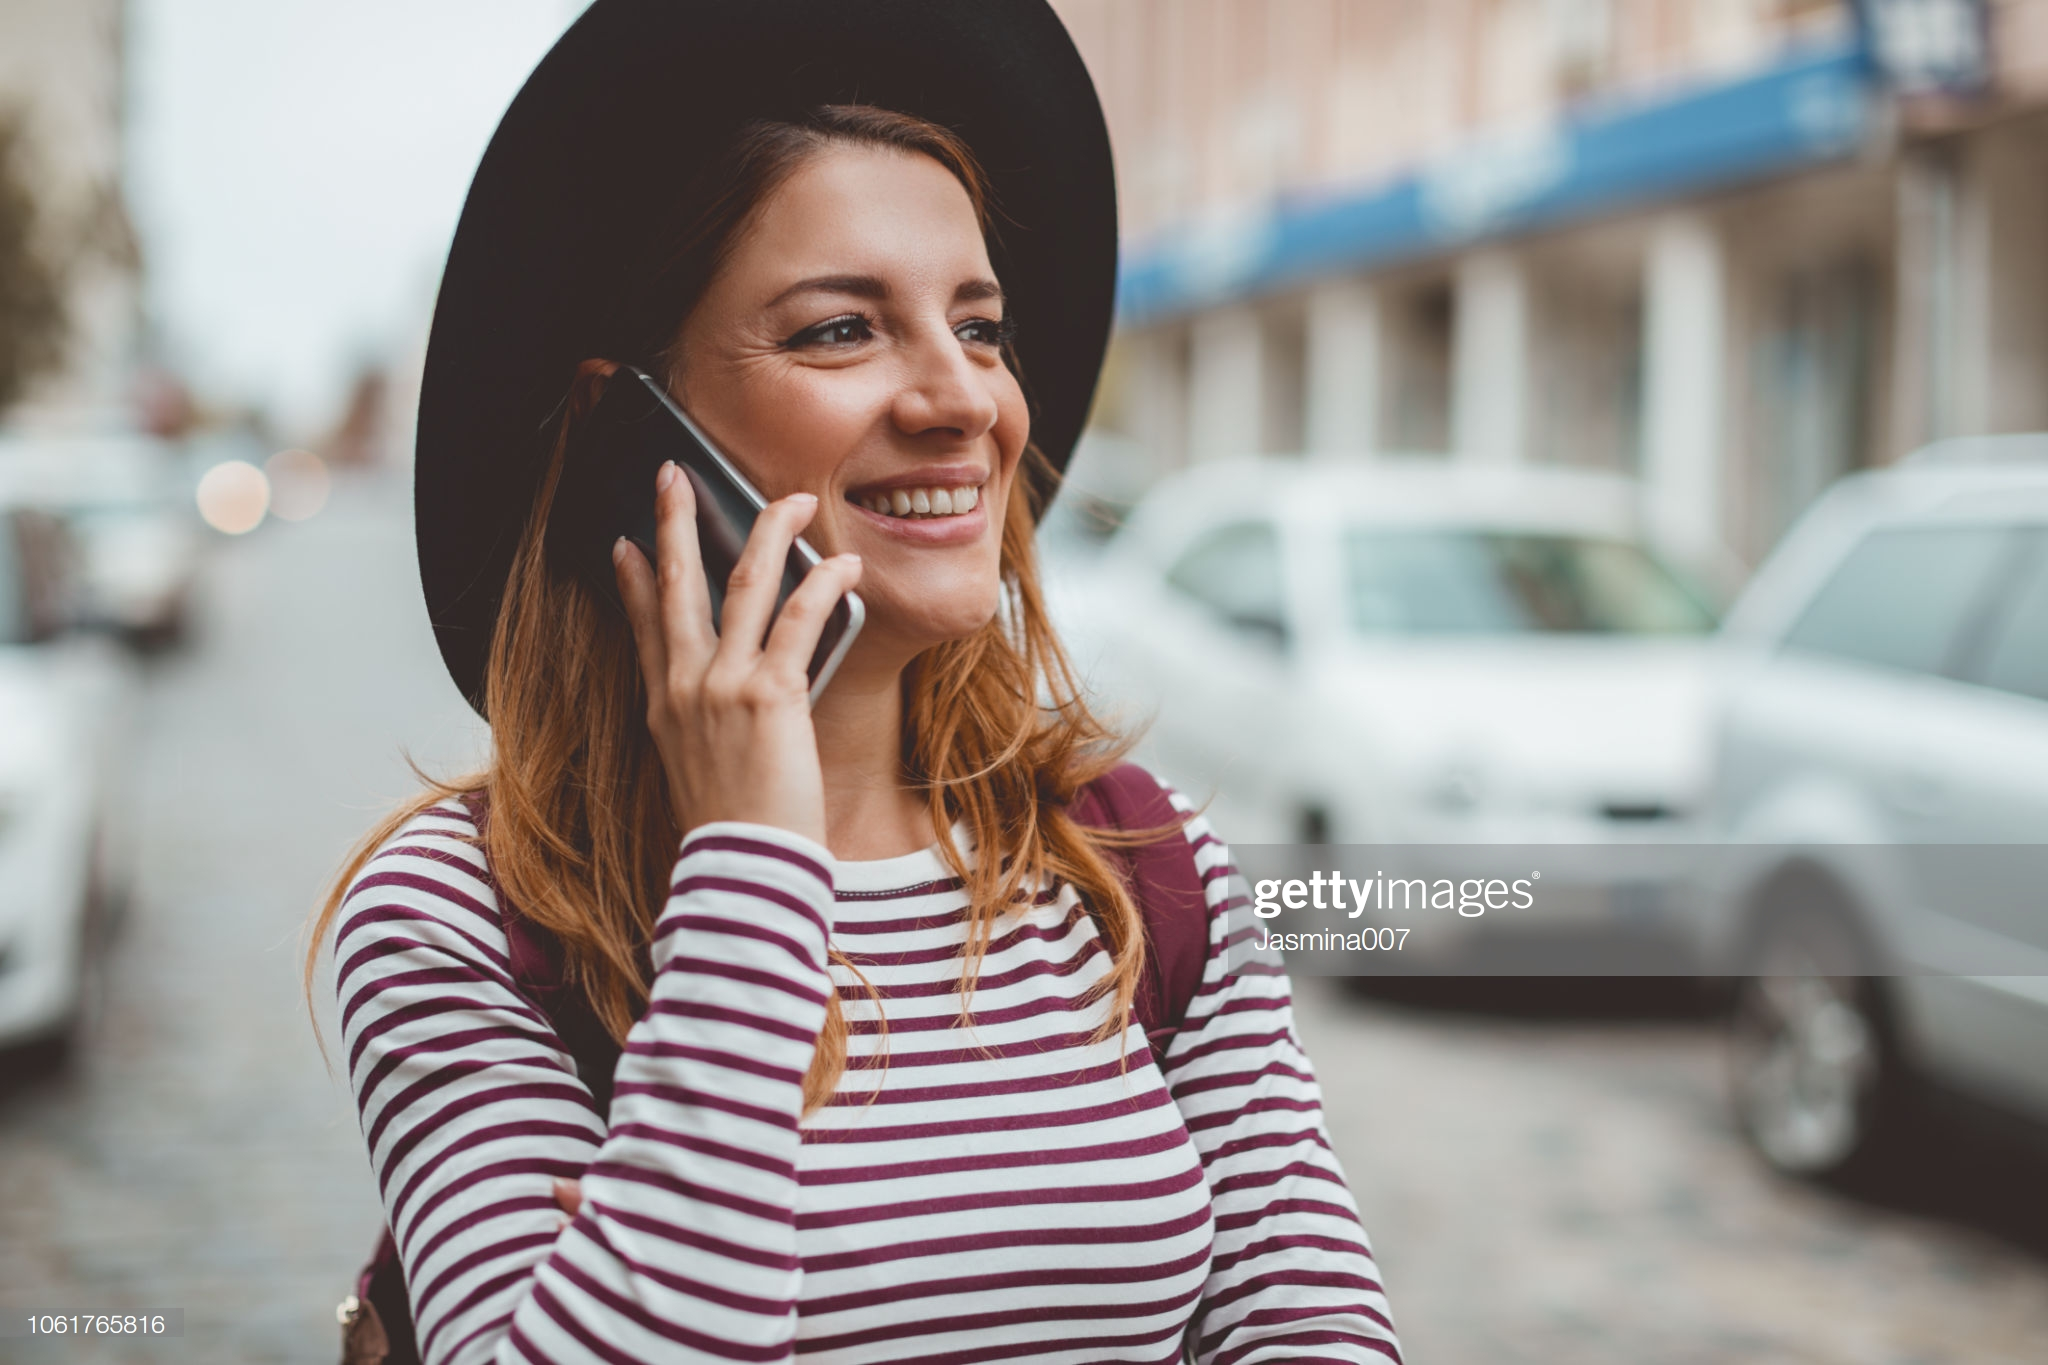phone: (554, 369, 872, 730)
talk: (530, 247, 1037, 794)
